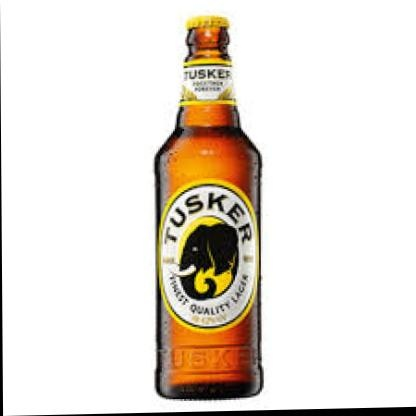trash: (155, 16, 261, 397)
